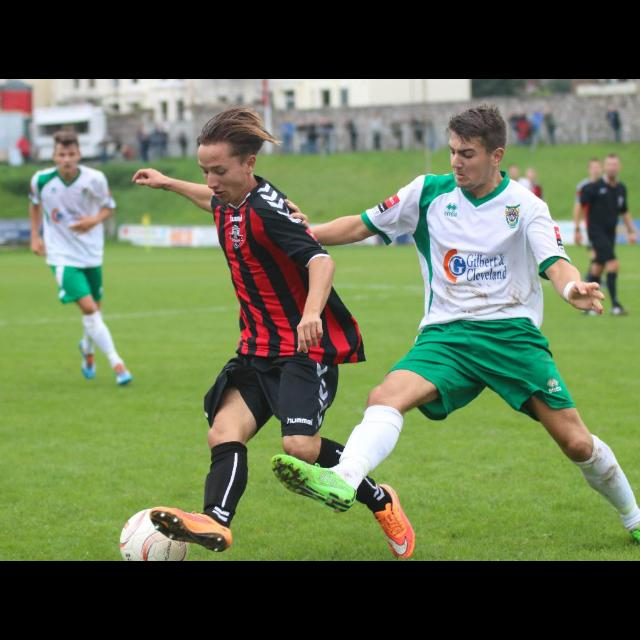Football: (117, 506, 189, 560)
